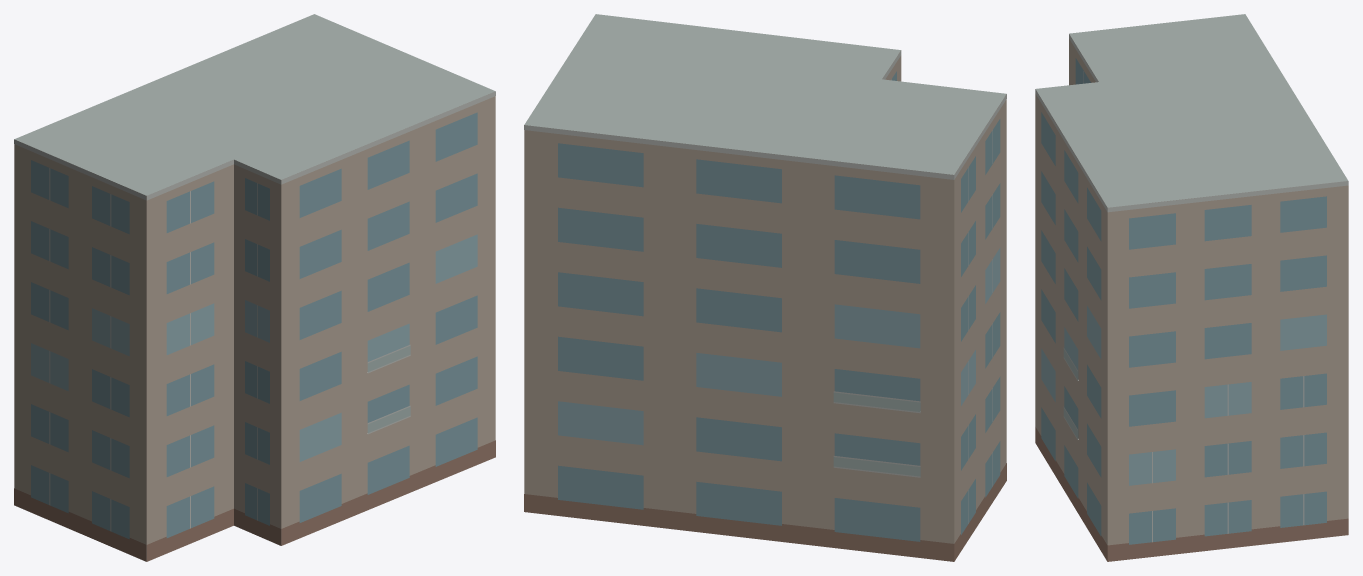
File: survey-upis-32580482.glb
The picture shows the model from 3 angles, left to right: view 1: azimuth 30°, elevation 25°; view 2: azimuth 150°, elevation 25°; view 3: azimuth 270°, elevation 25°; orthographic projection. The views are drawn at different scales.
Parts seen in each view (by area): view 1: survey-upis-32580482.tmp; view 2: survey-upis-32580482.tmp; view 3: survey-upis-32580482.tmp.
Boxes of the visible parts, left/top/right/bottom form: survey-upis-32580482.tmp: left=14, top=14, right=495, bottom=561; survey-upis-32580482.tmp: left=524, top=14, right=1006, bottom=561; survey-upis-32580482.tmp: left=1035, top=14, right=1348, bottom=561.
Size of the model in its own units: 22.07 by 18.8 by 15.07.
